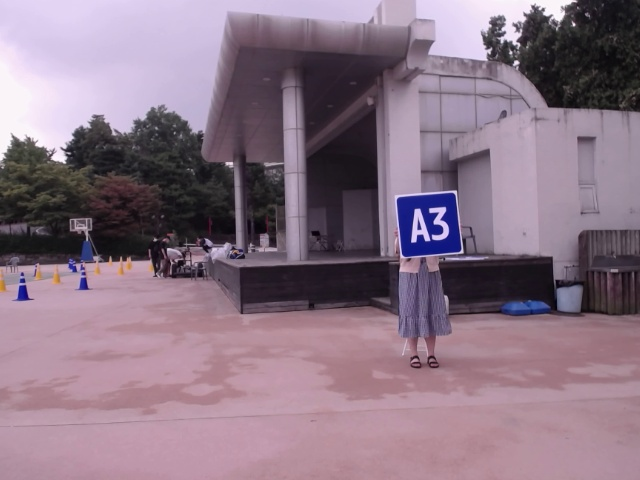delivery_a3: (397, 191, 464, 258)
